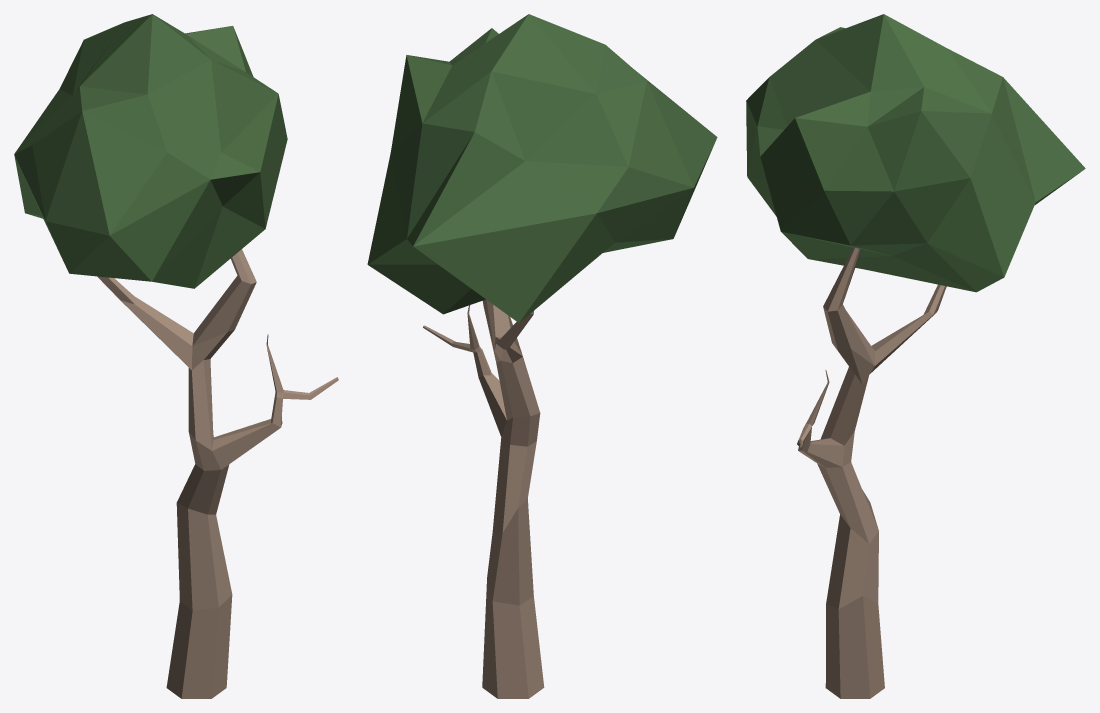
File: tree2.fbx
The picture shows the model from 3 angles, left to right: view 1: azimuth 30°, elevation 25°; view 2: azimuth 150°, elevation 25°; view 3: azimuth 270°, elevation 25°; orthographic projection. The views are drawn at different scales.
Visible parts, largest first — view 1: Icosphere, Tree; view 2: Icosphere, Tree; view 3: Icosphere, Tree.
Boxes of the visible parts, x1,y1,x2,y2 form: Icosphere: (14, 14, 287, 288); Tree: (97, 249, 338, 698); Icosphere: (367, 14, 717, 322); Tree: (423, 299, 544, 698); Icosphere: (746, 14, 1085, 292); Tree: (797, 247, 946, 698).
Bounding box in the file's own units: 236 × 545 × 254.
